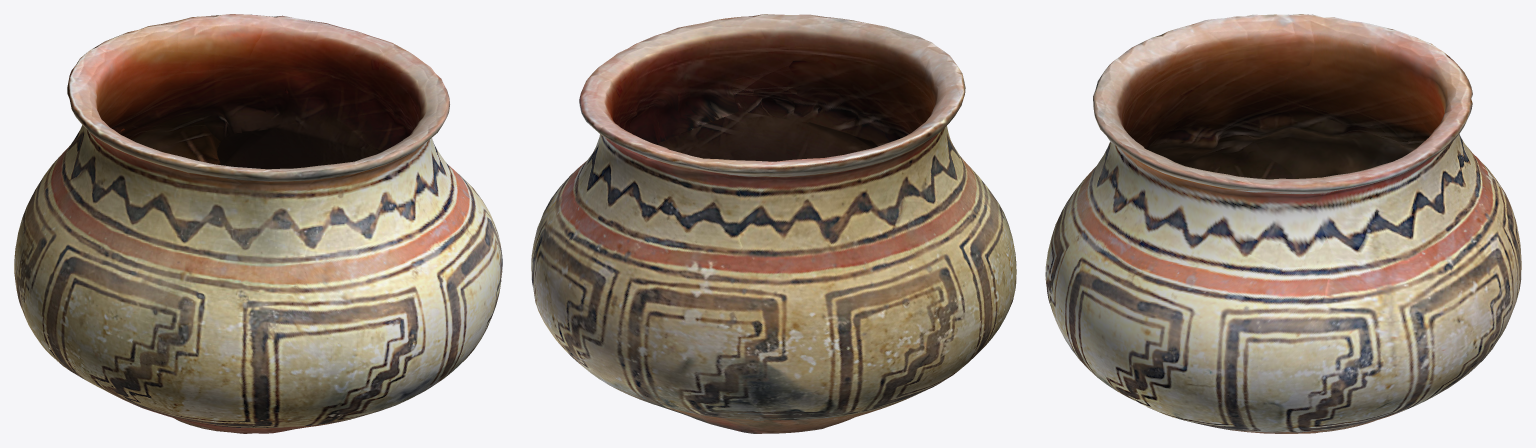
Rendered from Cerámica-Chazuta.FBX.
3 views of the same model, side by side, from view 1: azimuth 30°, elevation 25°; view 2: azimuth 150°, elevation 25°; view 3: azimuth 270°, elevation 25° (orthographic).
Parts seen in each view (by area): view 1: default; view 2: default; view 3: default.
Part boxes in pixels (x1,y1,x2,y2): default: (14,14,502,433); default: (531,14,1016,433); default: (1045,14,1521,433).
Size of the model in its own units: 22.68 by 15.75 by 22.43.
